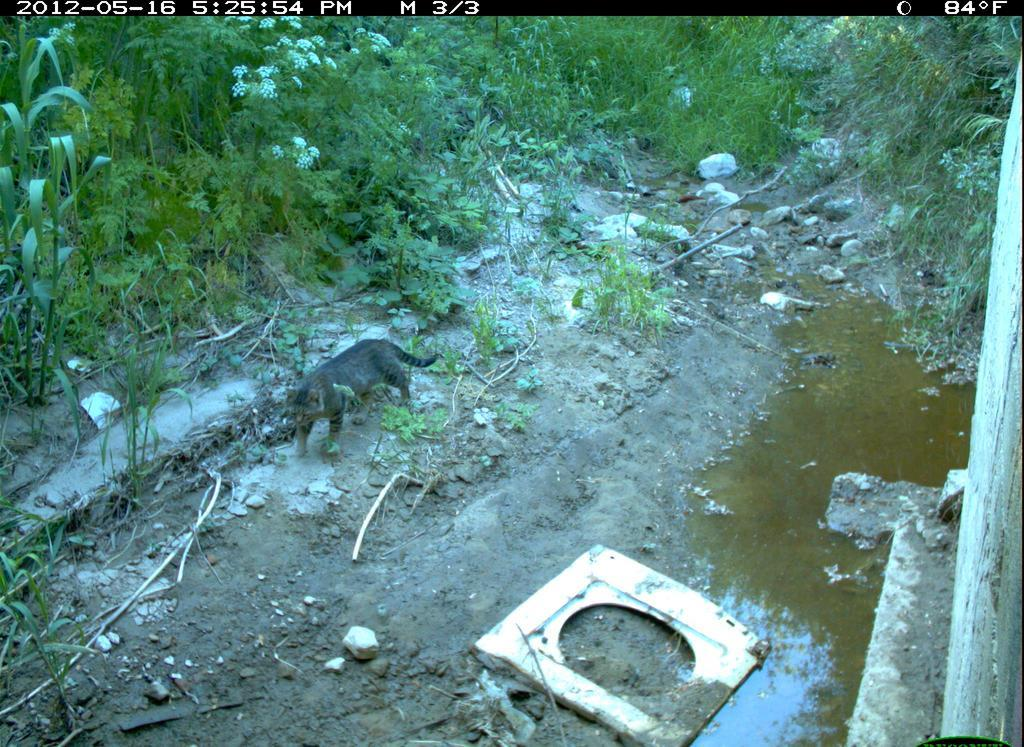cat: (278, 323, 440, 459)
